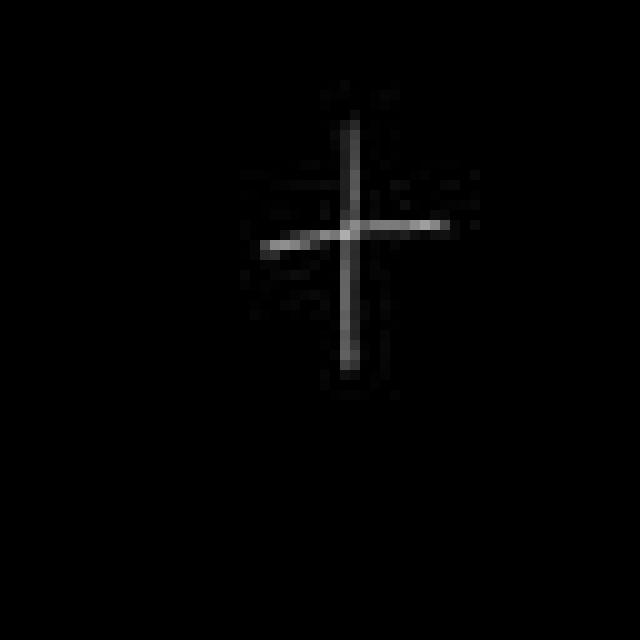10 -ten-: (257, 110, 457, 373)
